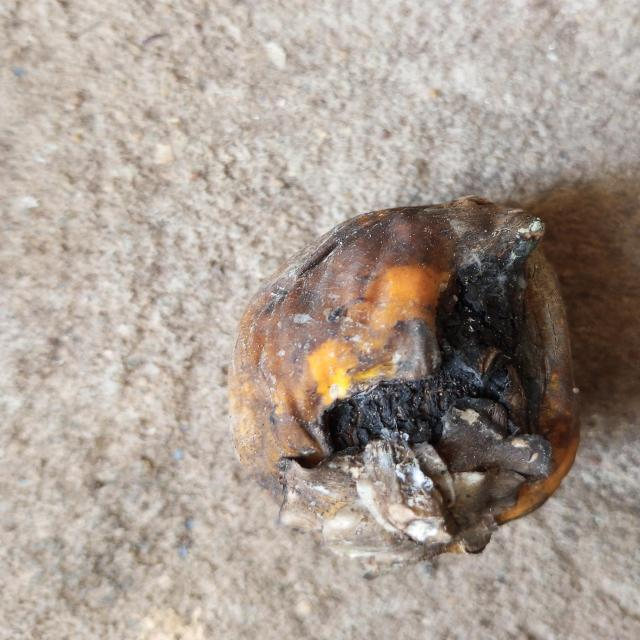damaged: (228, 197, 583, 556)
